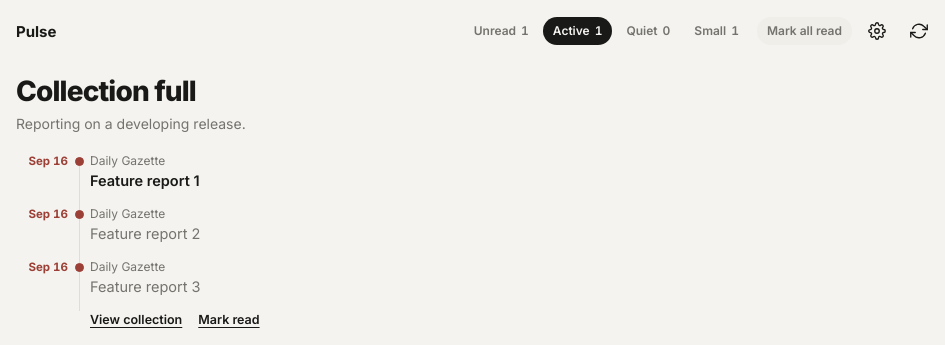
Test case: Pulse collection size and catch-up › keeps singletons out of the main overview but available in Small
This screenshot has width=945, height=345.
Expected: the text "Collection small" is not shown
Click the button "Small 1": click(717, 31) x1=684 y1=17 x2=749 y2=45
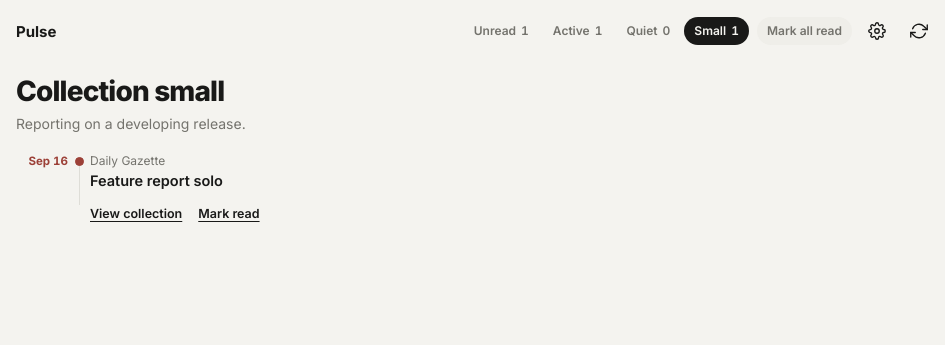
Expected: the link "View collection" is shown, x1=90 y1=205 x2=182 y2=223
Now the text "Collection small" is shown, box x1=16 y1=76 x2=224 y2=106
Now the text "Collection full" is gone
